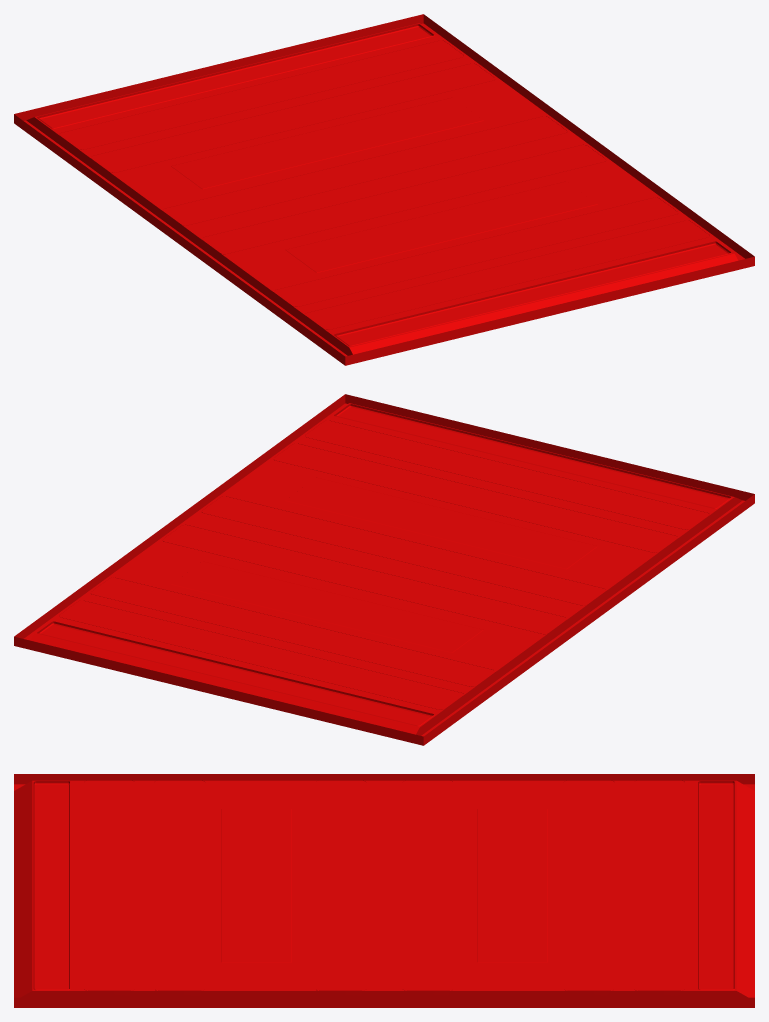
The model's file is Ceiling_9.fbx.
3 views of the same model, one above another, from view 1: azimuth 30°, elevation 25°; view 2: azimuth 150°, elevation 25°; view 3: azimuth 270°, elevation 25° (orthographic). The views are drawn at different scales.
Parts seen in each view (by area): view 1: polySurface2309; view 2: polySurface2309; view 3: polySurface2309.
Boxes of the visible parts, box(x1,y1,x2,y2) form: polySurface2309: box(14, 14, 754, 365); polySurface2309: box(14, 394, 754, 745); polySurface2309: box(14, 774, 754, 1007).
Bounding box in the file's own units: 604 × 42.9 × 846.
